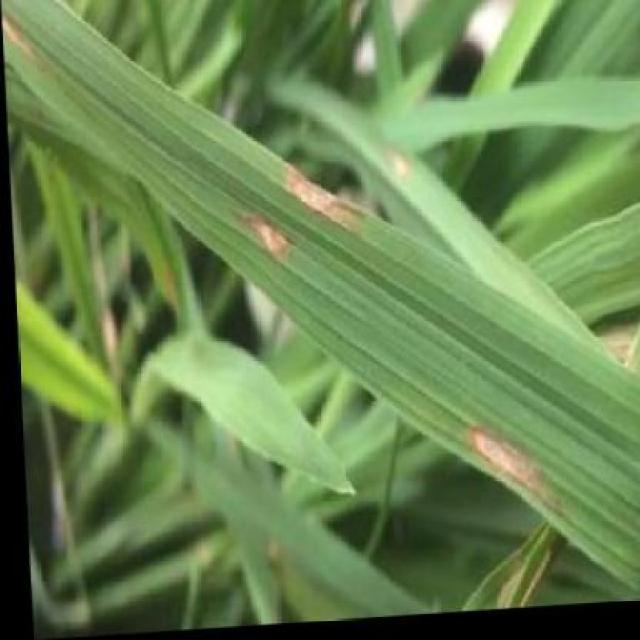Bacterial_Leaf_Blight: (434, 385, 583, 552), (270, 123, 398, 251), (217, 178, 305, 298), (0, 3, 45, 80)
